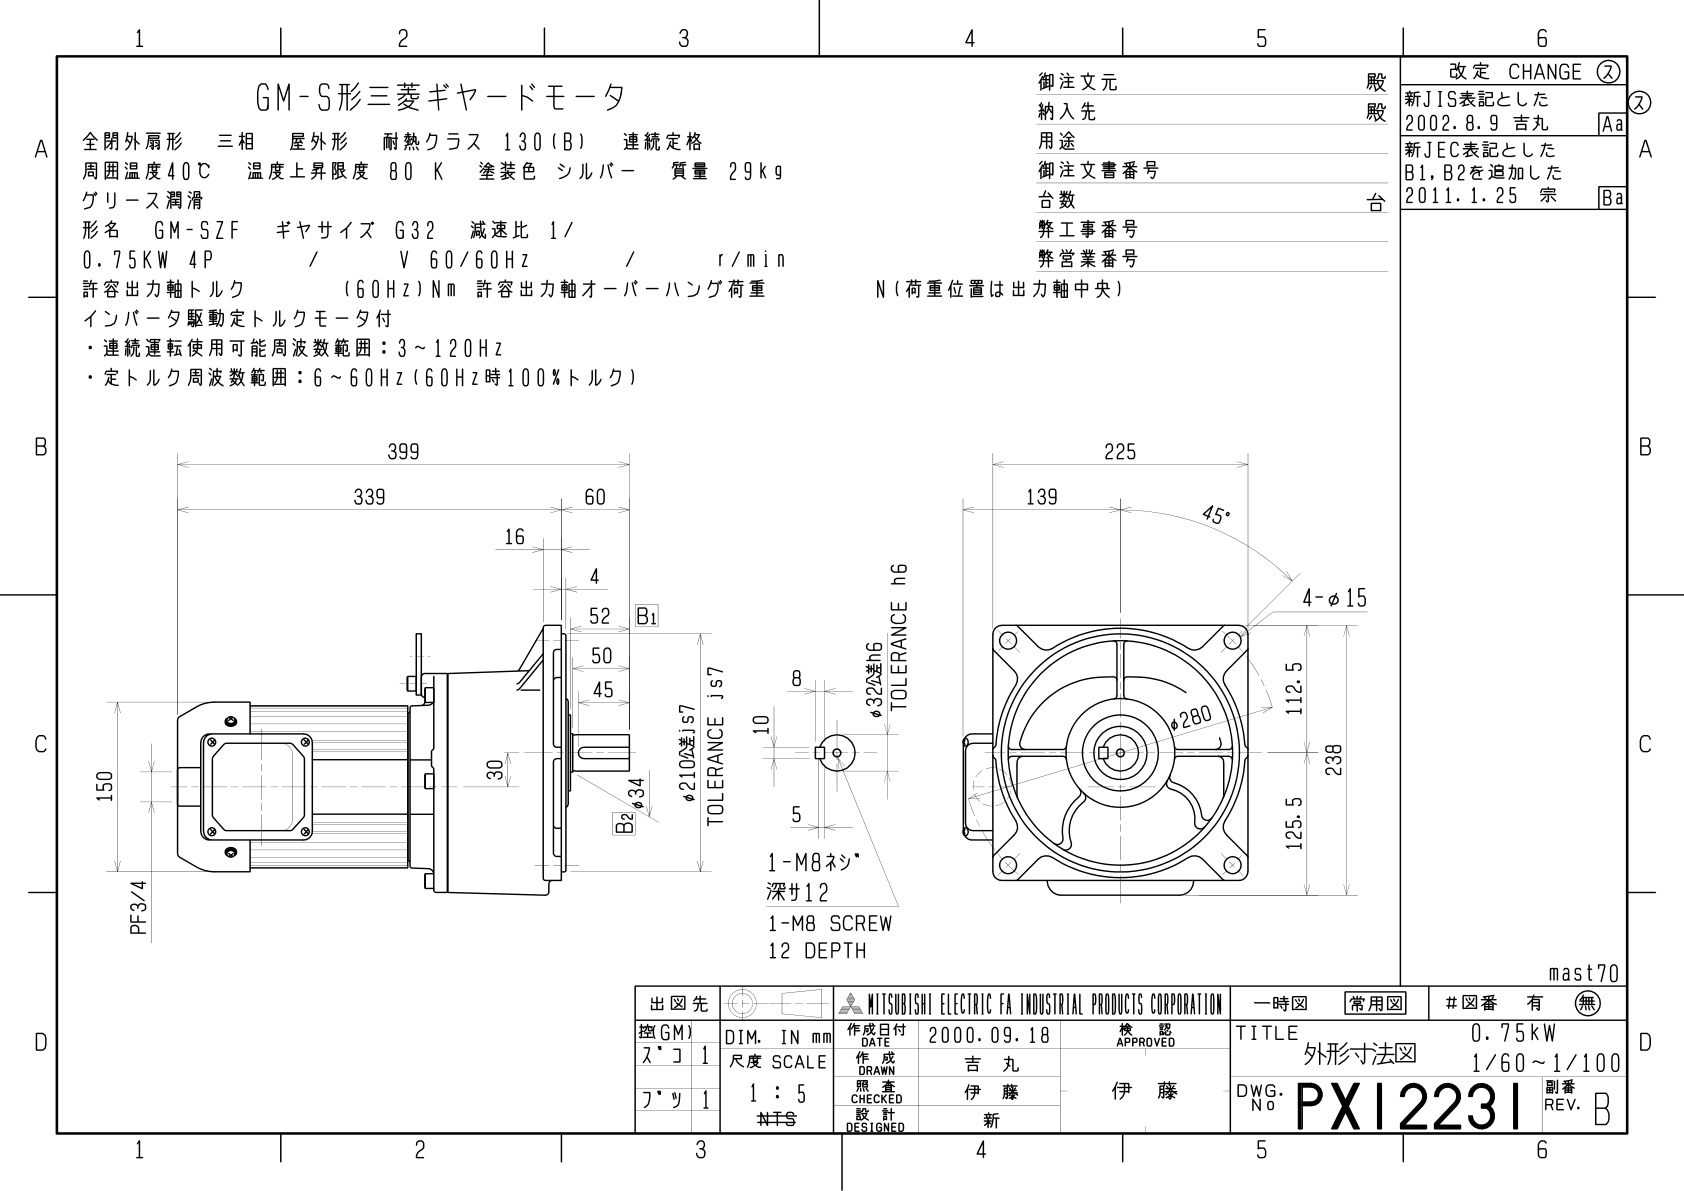GM_S_インバタ屋外＿三相_フランジ: (75, 409, 1379, 974)
